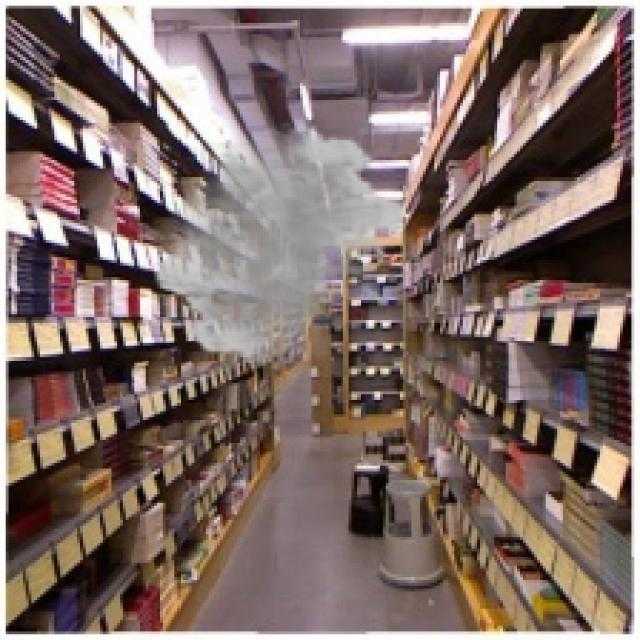Smoke: (152, 122, 408, 368)
